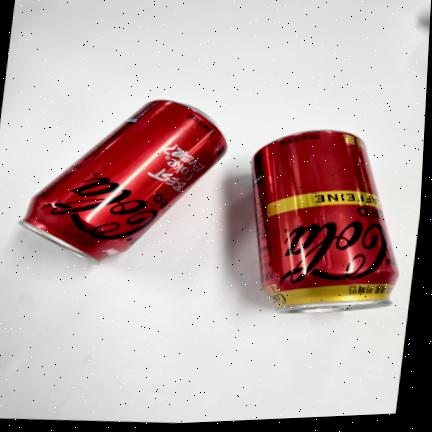can_coke_decaf: (251, 129, 398, 313)
can_coke_zero: (18, 99, 226, 264)
